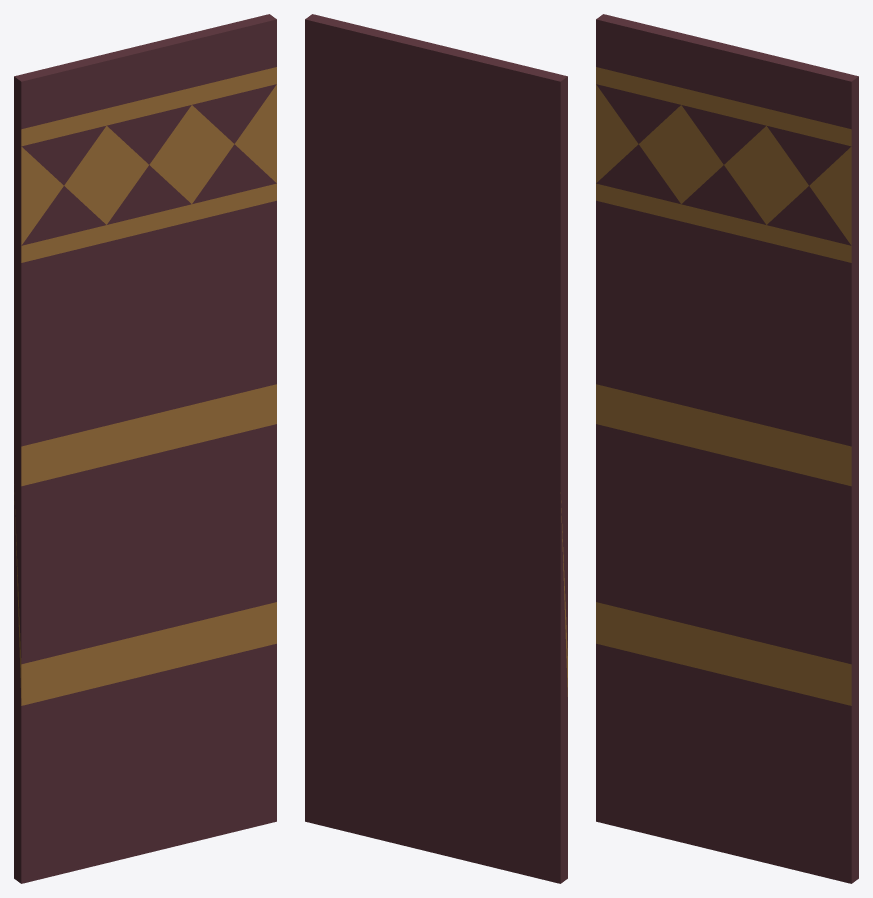
Rendered from empire-wall-r-3x1m-empire.glb.
The picture shows the model from 3 angles, left to right: view 1: azimuth 30°, elevation 25°; view 2: azimuth 150°, elevation 25°; view 3: azimuth 330°, elevation 25°; orthographic projection.
Parts seen in each view (by area): view 1: SM_Wall_R_3x1m_Empire; view 2: SM_Wall_R_3x1m_Empire; view 3: SM_Wall_R_3x1m_Empire.
Boxes of the visible parts, box(x1,y1,x2,y2) form: SM_Wall_R_3x1m_Empire: box(14, 14, 276, 883); SM_Wall_R_3x1m_Empire: box(305, 14, 567, 883); SM_Wall_R_3x1m_Empire: box(596, 14, 858, 883).
Bounding box in the file's own units: 1 × 3 × 0.05.
